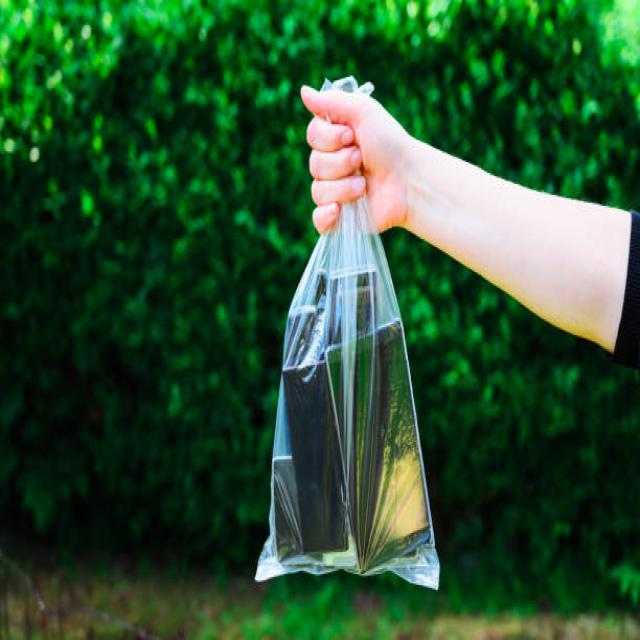mobile_phone: (320, 341, 428, 565)
plastic_bag: (282, 82, 424, 623)
